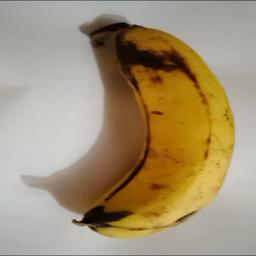Banana Semifresh: (76, 17, 238, 237)
